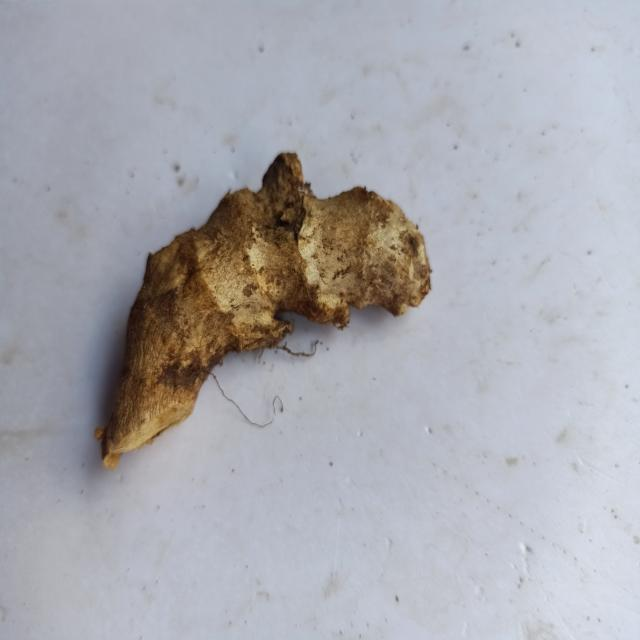Ginger: (95, 152, 431, 469)
